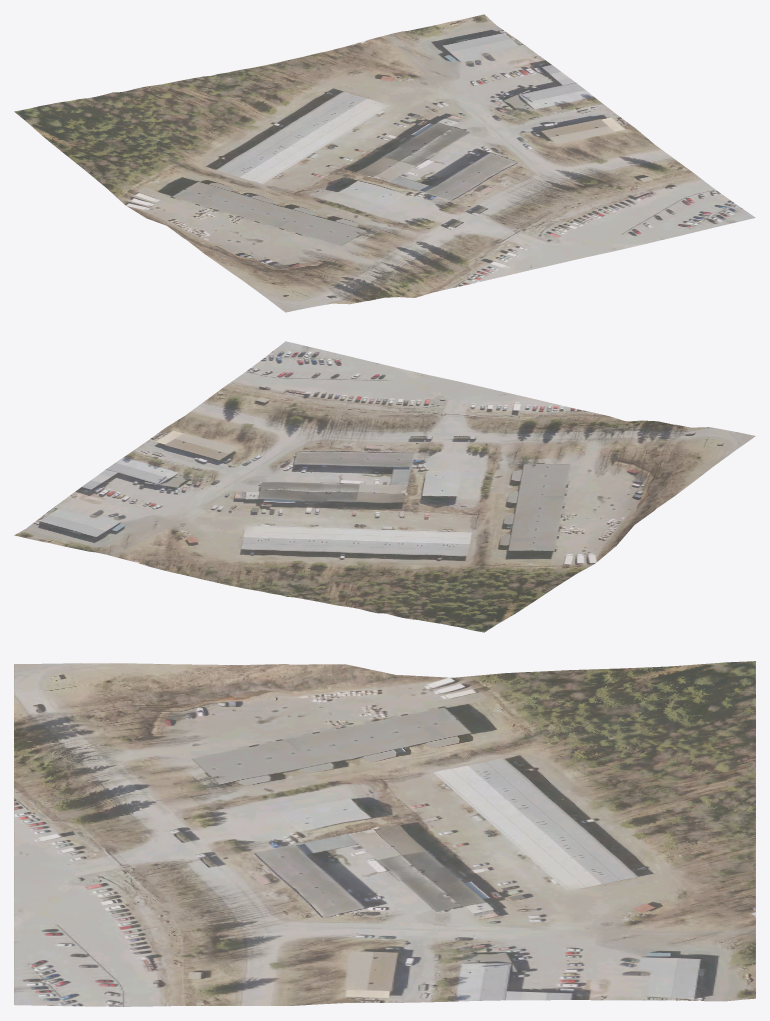
The model's file is CM_Terrain_24492916_6816108.fbx.
3 views of the same model, one above another, from view 1: azimuth 30°, elevation 25°; view 2: azimuth 150°, elevation 25°; view 3: azimuth 270°, elevation 25° (orthographic). The views are drawn at different scales.
Parts seen in each view (by area): view 1: CM_Terrain_24492916_6816108_LOD0; view 2: CM_Terrain_24492916_6816108_LOD0; view 3: CM_Terrain_24492916_6816108_LOD0.
Boxes of the visible parts, x1=… form: CM_Terrain_24492916_6816108_LOD0: x1=14, y1=14, x2=755, y2=312; CM_Terrain_24492916_6816108_LOD0: x1=14, y1=341, x2=755, y2=632; CM_Terrain_24492916_6816108_LOD0: x1=14, y1=661, x2=755, y2=1006.
Size of what is drawn, in the model's own units: 205 by 9.81 by 205.
